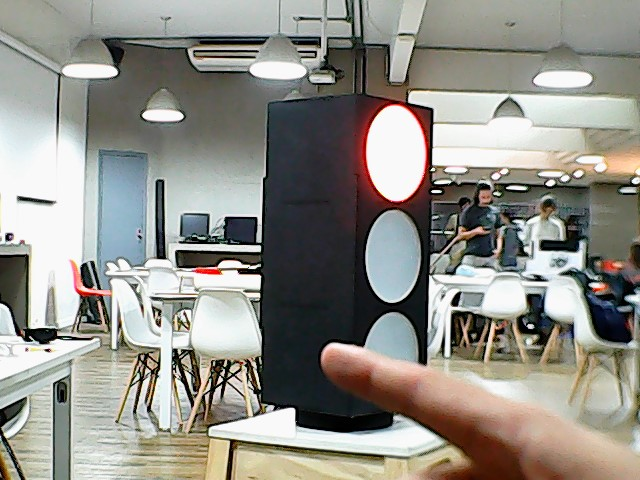vermelho: (257, 86, 439, 424)
